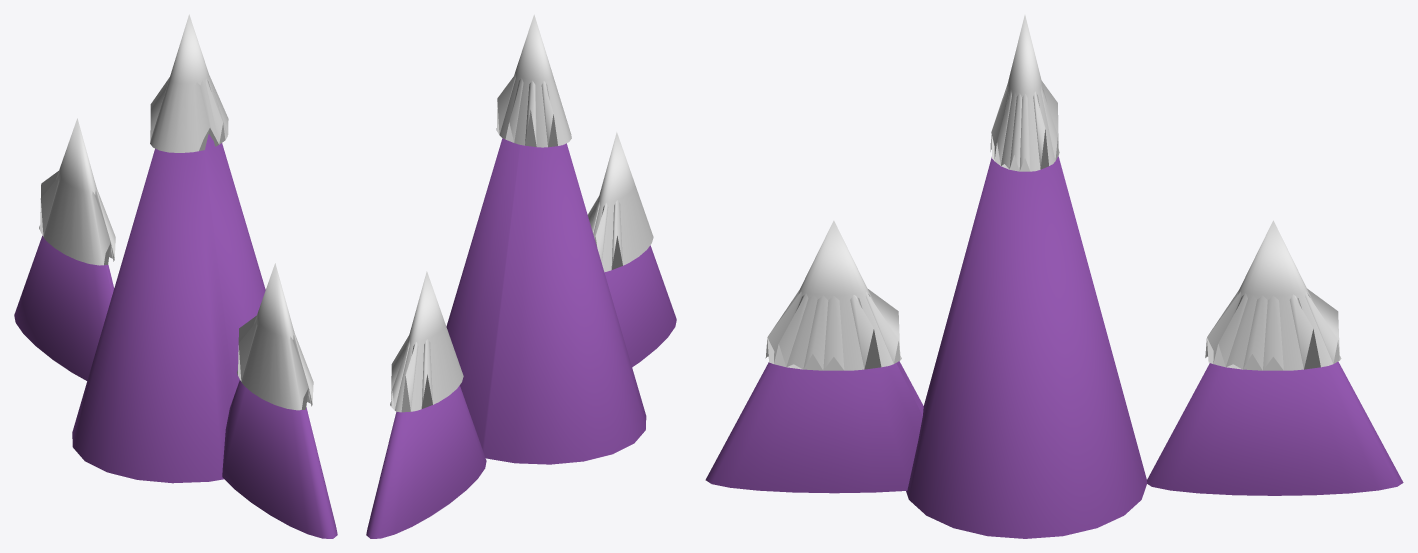
Rendered from Mountains.fbx.
3 views of the same model, side by side, from view 1: azimuth 30°, elevation 25°; view 2: azimuth 150°, elevation 25°; view 3: azimuth 270°, elevation 25° (orthographic). The views are drawn at different scales.
Parts seen in each view (by area): view 1: pCone4, pasted__pCone5, pasted__pasted__pCone5, pCone5; view 2: pCone4, pasted__pCone5, pCone5, pasted__pasted__pCone5; view 3: pCone4, pasted__pCone5, pasted__pasted__pCone5, pCone5.
Part boxes in pixels (x1=…): pCone4: x1=14, y1=134, x2=337, y2=538; pasted__pCone5: x1=39, y1=118, x2=115, y2=265; pasted__pasted__pCone5: x1=237, y1=263, x2=313, y2=410; pCone5: x1=150, y1=14, x2=228, y2=152; pCone4: x1=366, y1=138, x2=676, y2=538; pasted__pCone5: x1=390, y1=271, x2=463, y2=412; pCone5: x1=496, y1=14, x2=571, y2=147; pasted__pasted__pCone5: x1=588, y1=132, x2=653, y2=272; pCone4: x1=705, y1=156, x2=1403, y2=538; pasted__pCone5: x1=1205, y1=220, x2=1341, y2=370; pasted__pasted__pCone5: x1=765, y1=220, x2=901, y2=370; pCone5: x1=990, y1=15, x2=1059, y2=171.
Bounding box in the file's own units: 8.62 × 16.65 × 22.47.
